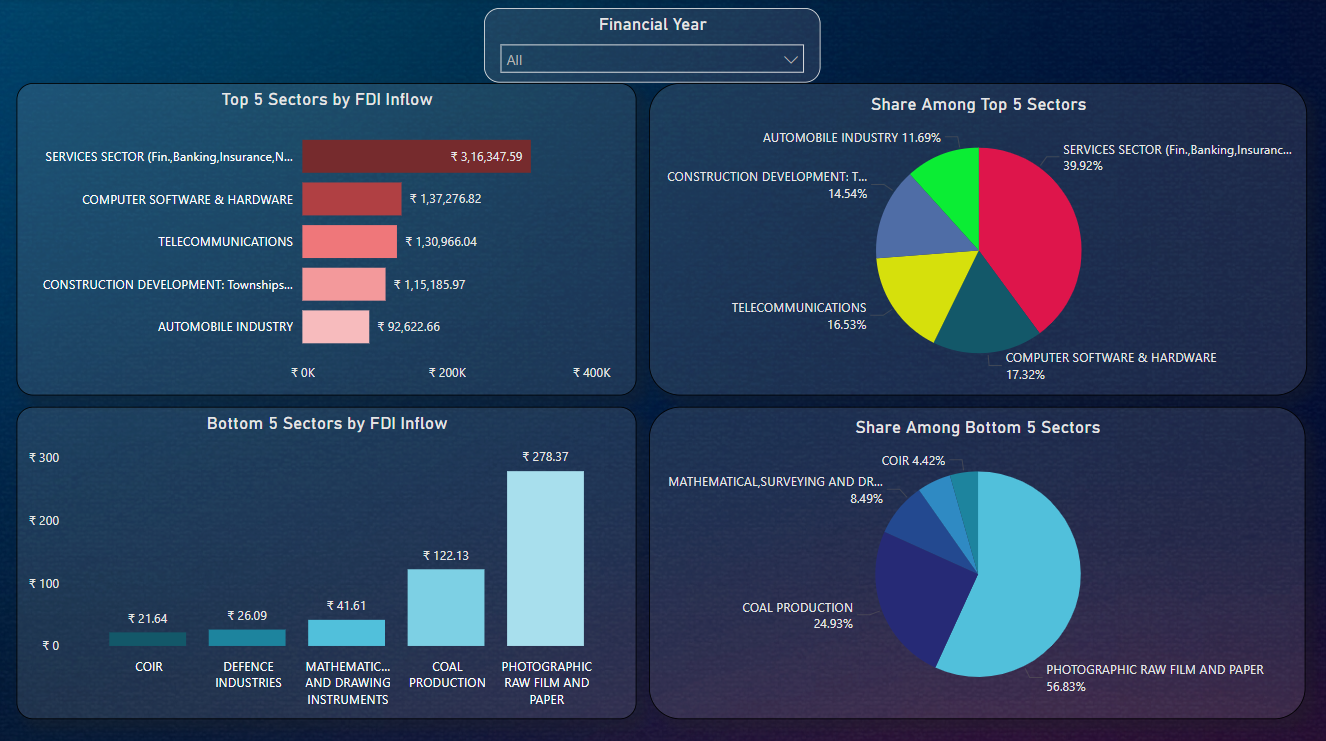

What the dashboard file says about the page in this screenshot:
{"tool":"powerbi","page":{"name":"Top & Bottom Sectors","canvas":[1280,720],"ordinal":1},"visuals":[{"type":"clusteredBarChart","title":"Top 5 Sectors by FDI Inflow","fields":{"Category":["Sheet1.Sector"],"Y":["Imp Insights.Top 5 Sectors"]},"box":[17,82.2,598.1,301.9],"z":0},{"type":"slicer","title":"Financial Year","fields":{"Values":["Sheet1.FY"]},"box":[467.7,9.9,324.6,72.3],"z":1000},{"type":"pieChart","title":"Share Among Top 5 Sectors","fields":{"Category":["Sheet1.Sector"],"Y":["Imp Insights.Top 5 Sectors"]},"box":[627.9,82.2,635,301.9],"z":2000},{"type":"clusteredColumnChart","title":"Bottom 5 Sectors by FDI Inflow","fields":{"Category":["Sheet1.Sector"],"Y":["Imp Insights.Bottom 5 Sectors"]},"box":[17,394,598.1,301.9],"z":3000},{"type":"pieChart","title":"Share Among Bottom 5 Sectors","fields":{"Y":["Imp Insights.Bottom 5 Sectors"],"Category":["Sheet1.Sector"]},"box":[627.9,394,633.5,301.9],"z":4000}]}

Visuals, with their boxes in screenshot pixels (x1, y1, x2, y2), scaled from the page's 1280x720 canvas onto the 1326x741 screenshot:
"Top 5 Sectors by FDI Inflow" clusteredBarChart: l=18, t=85, r=637, b=395
"Financial Year" slicer: l=485, t=10, r=821, b=85
"Share Among Top 5 Sectors" pieChart: l=650, t=85, r=1308, b=395
"Bottom 5 Sectors by FDI Inflow" clusteredColumnChart: l=18, t=405, r=637, b=716
"Share Among Bottom 5 Sectors" pieChart: l=650, t=405, r=1307, b=716
